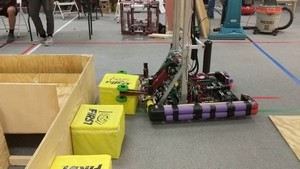cube: (70, 104, 130, 161)
